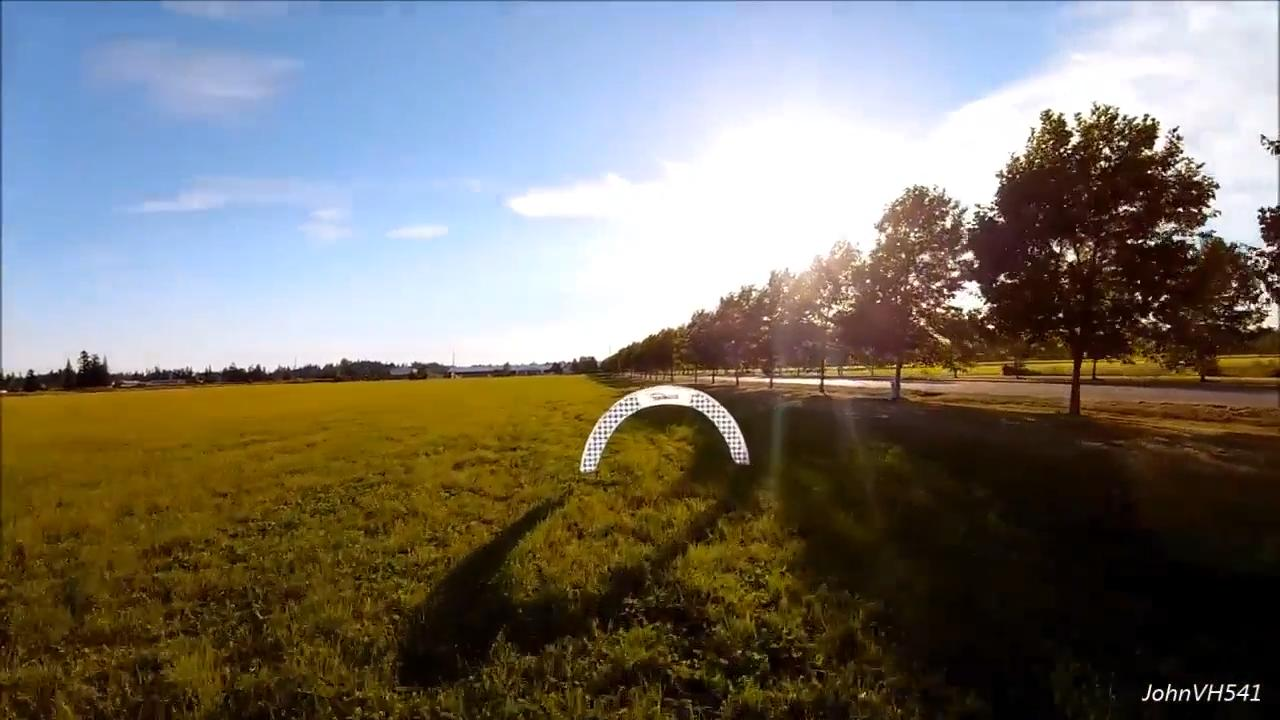gate: (579, 385, 753, 473)
